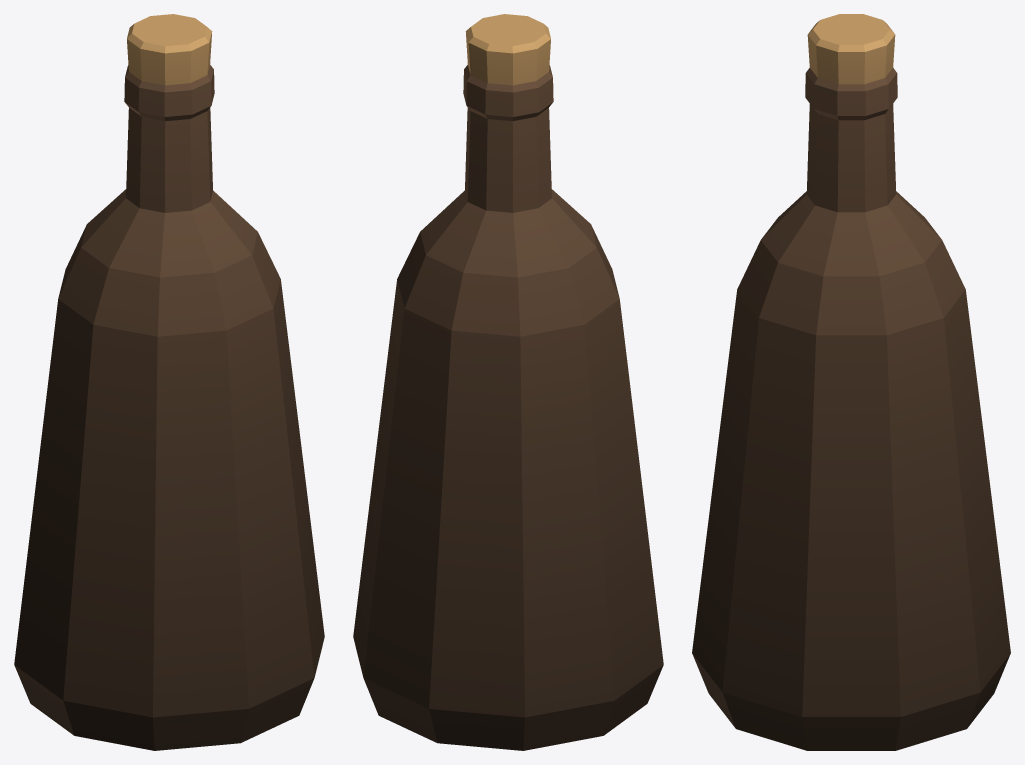
The model's file is bottle-3.glb.
The picture shows the model from 3 angles, left to right: view 1: azimuth 30°, elevation 25°; view 2: azimuth 150°, elevation 25°; view 3: azimuth 270°, elevation 25°; orthographic projection.
Parts seen in each view (by area): view 1: bottle 3; view 2: bottle 3; view 3: bottle 3.
Part boxes in pixels (left/top/right/bottom): bottle 3: left=14, top=14, right=324, bottom=750; bottle 3: left=353, top=14, right=663, bottom=750; bottle 3: left=692, top=14, right=1010, bottom=750.
Bounding box in the file's own units: 0.1075 × 0.2597 × 0.1131.
1 material, 1 textured.
